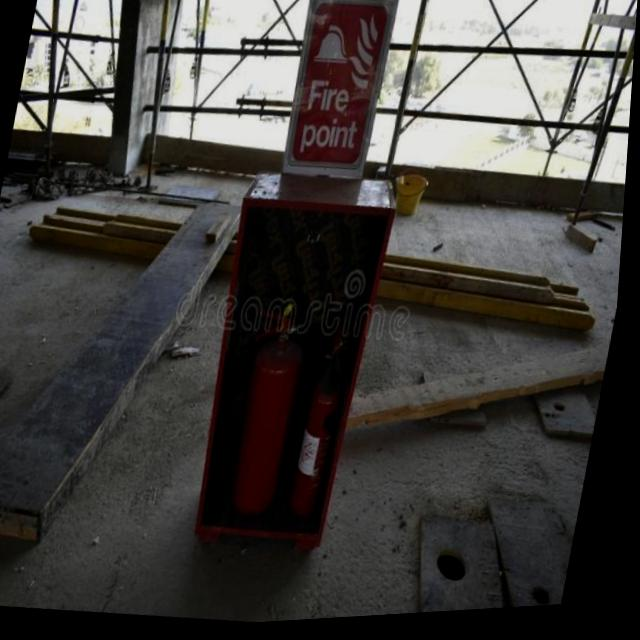FireExtinguisher: (226, 291, 323, 527), (286, 324, 366, 535)
